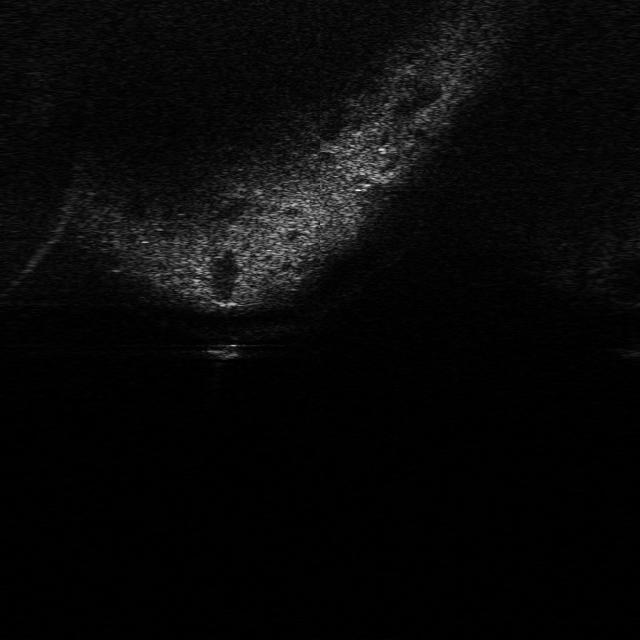cube: (200, 333, 244, 363)
